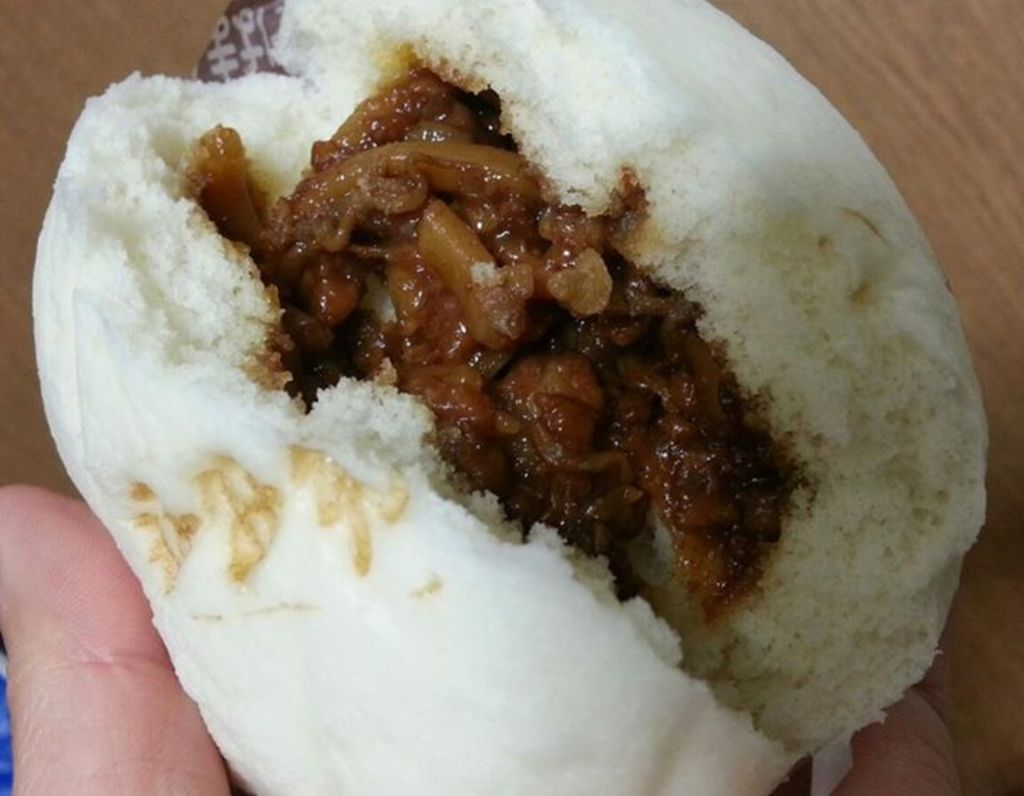Human_hand: (0, 481, 229, 796)
